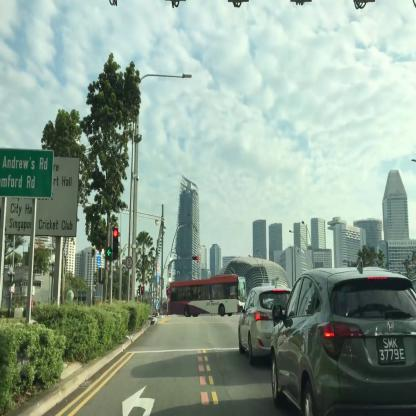red_traffic_light: (113, 230, 117, 258), (192, 256, 198, 259), (166, 287, 168, 296)
